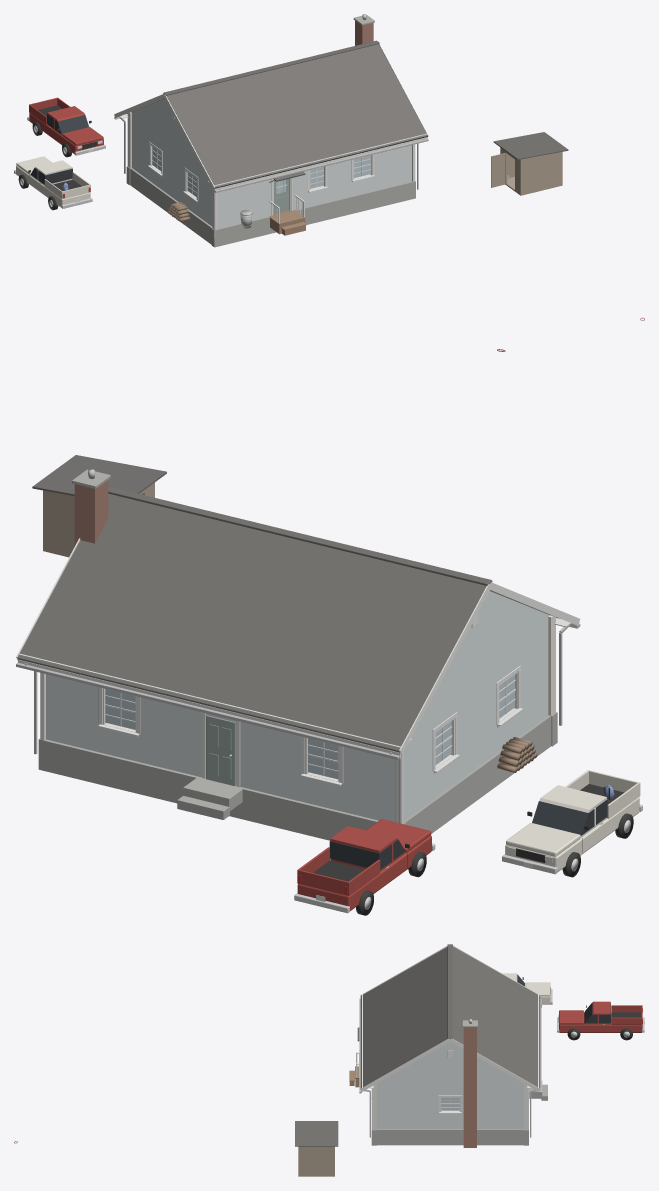
File: Casa.fbx
3 renders of one model, top to bottom at view 1: azimuth 30°, elevation 25°; view 2: azimuth 150°, elevation 25°; view 3: azimuth 270°, elevation 25°, orthographic. The views are drawn at different scales.
Visible parts, largest first — view 1: Casa_Techo, Casa_Estructura, Casa_Cobertizo, Casa_CamionetaPapa, Casa_Camioneta, Casa_Exterior, Casa_Vidrio, Casa_Puerta; view 2: Casa_Techo, Casa_Estructura, Casa_Exterior, Casa_Camioneta, Casa_CamionetaPapa, Casa_Cobertizo, Casa_Vidrio; view 3: Casa_Techo, Casa_Estructura, Casa_CamionetaPapa, Casa_Exterior, Casa_Cobertizo, Casa_Camioneta.
Boxes of the visible parts, x1=… form: Casa_Techo: x1=114, y1=40, x2=428, y2=192; Casa_Estructura: x1=119, y1=99, x2=427, y2=247; Casa_Cobertizo: x1=491, y1=132, x2=568, y2=195; Casa_CamionetaPapa: x1=27, y1=97, x2=105, y2=157; Casa_Camioneta: x1=14, y1=156, x2=92, y2=210; Casa_Exterior: x1=119, y1=14, x2=423, y2=239; Casa_Vidrio: x1=152, y1=147, x2=370, y2=196; Casa_Puerta: x1=274, y1=179, x2=289, y2=213; Casa_Techo: x1=16, y1=486, x2=580, y2=759; Casa_Estructura: x1=18, y1=591, x2=570, y2=840; Casa_Exterior: x1=24, y1=468, x2=570, y2=823; Casa_Camioneta: x1=502, y1=770, x2=642, y2=877; Casa_CamionetaPapa: x1=294, y1=819, x2=435, y2=915; Casa_Cobertizo: x1=32, y1=455, x2=166, y2=557; Casa_Vidrio: x1=105, y1=675, x2=514, y2=779; Casa_Techo: x1=357, y1=944, x2=541, y2=1093; Casa_Estructura: x1=362, y1=994, x2=538, y2=1145; Casa_CamionetaPapa: x1=557, y1=1001, x2=644, y2=1040; Casa_Exterior: x1=349, y1=1000, x2=547, y2=1147; Casa_Cobertizo: x1=295, y1=1121, x2=338, y2=1176; Casa_Camioneta: x1=502, y1=973, x2=552, y2=1007.
Size of the model in its own units: 25.6 by 8.42 by 37.77.
